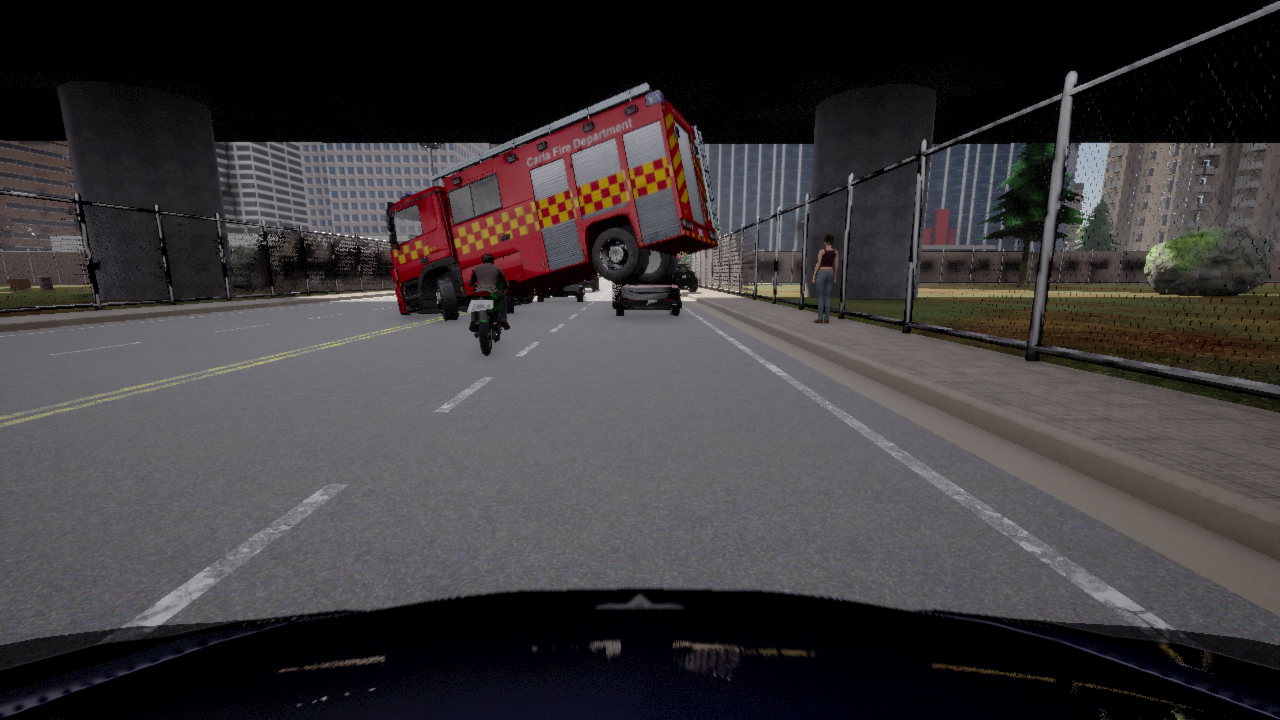cyclist: (0, 588, 1279, 719), (386, 83, 719, 320), (467, 277, 517, 355), (612, 276, 681, 315), (536, 282, 584, 301), (673, 264, 697, 291), (513, 295, 535, 305), (583, 278, 599, 291), (612, 281, 613, 284)
pedestrian: (812, 234, 837, 322)
